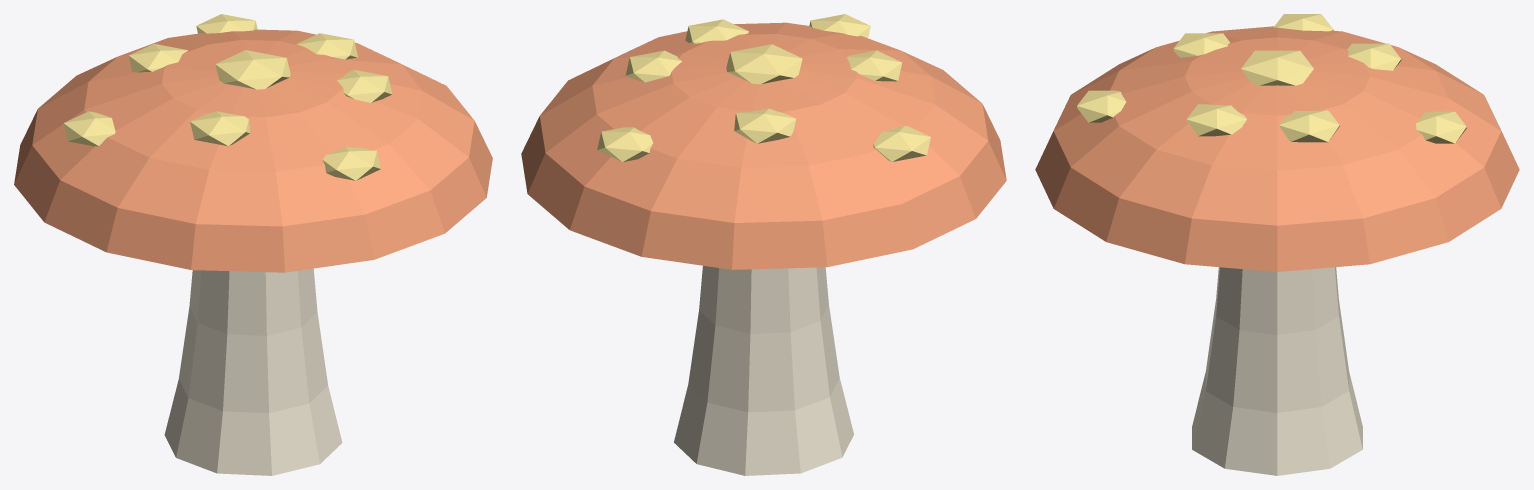
File: bounceshroom.glb
3 renders of one model, left to right at view 1: azimuth 30°, elevation 25°; view 2: azimuth 150°, elevation 25°; view 3: azimuth 270°, elevation 25°, orthographic.
Parts seen in each view (by area): view 1: CapTop, Stalk, SpotTop, Spot4, Spot5, Spot3, Spot6, Spot2, Spot0, Spot1; view 2: CapTop, Stalk, SpotTop, Spot2, Spot3, Spot1, Spot0, Spot4, Spot6, Spot5; view 3: CapTop, Stalk, SpotTop, Spot0, Spot6, Spot1, Spot5, Spot2, Spot4, Spot3.
Part boxes in pixels (bbox=[...]): CapTop: bbox=[14, 29, 492, 272]; Stalk: bbox=[164, 268, 342, 475]; SpotTop: bbox=[215, 50, 290, 89]; Spot4: bbox=[190, 111, 249, 146]; Spot5: bbox=[322, 147, 380, 180]; Spot3: bbox=[63, 111, 115, 146]; Spot6: bbox=[337, 70, 392, 102]; Spot2: bbox=[128, 44, 187, 72]; Spot0: bbox=[296, 33, 357, 59]; Spot1: bbox=[196, 14, 257, 33]; CapTop: bbox=[521, 22, 1006, 269]; Stalk: bbox=[674, 265, 853, 475]; SpotTop: bbox=[726, 44, 802, 84]; Spot2: bbox=[734, 108, 796, 143]; Spot3: bbox=[873, 126, 930, 161]; Spot1: bbox=[597, 127, 652, 161]; Spot0: bbox=[625, 50, 682, 82]; Spot4: bbox=[847, 50, 902, 81]; Spot6: bbox=[685, 19, 748, 43]; Spot5: bbox=[809, 14, 870, 37]; CapTop: bbox=[1035, 26, 1519, 271]; Stalk: bbox=[1192, 267, 1362, 475]; SpotTop: bbox=[1241, 50, 1313, 85]; Spot0: bbox=[1278, 110, 1339, 142]; Spot6: bbox=[1186, 104, 1247, 136]; Spot1: bbox=[1415, 111, 1466, 143]; Spot5: bbox=[1077, 90, 1126, 122]; Spot2: bbox=[1347, 43, 1401, 70]; Spot4: bbox=[1173, 33, 1230, 57]; Spot3: bbox=[1274, 14, 1333, 31].
Size of the model in its own units: 2.7 by 2.34 by 2.7.
